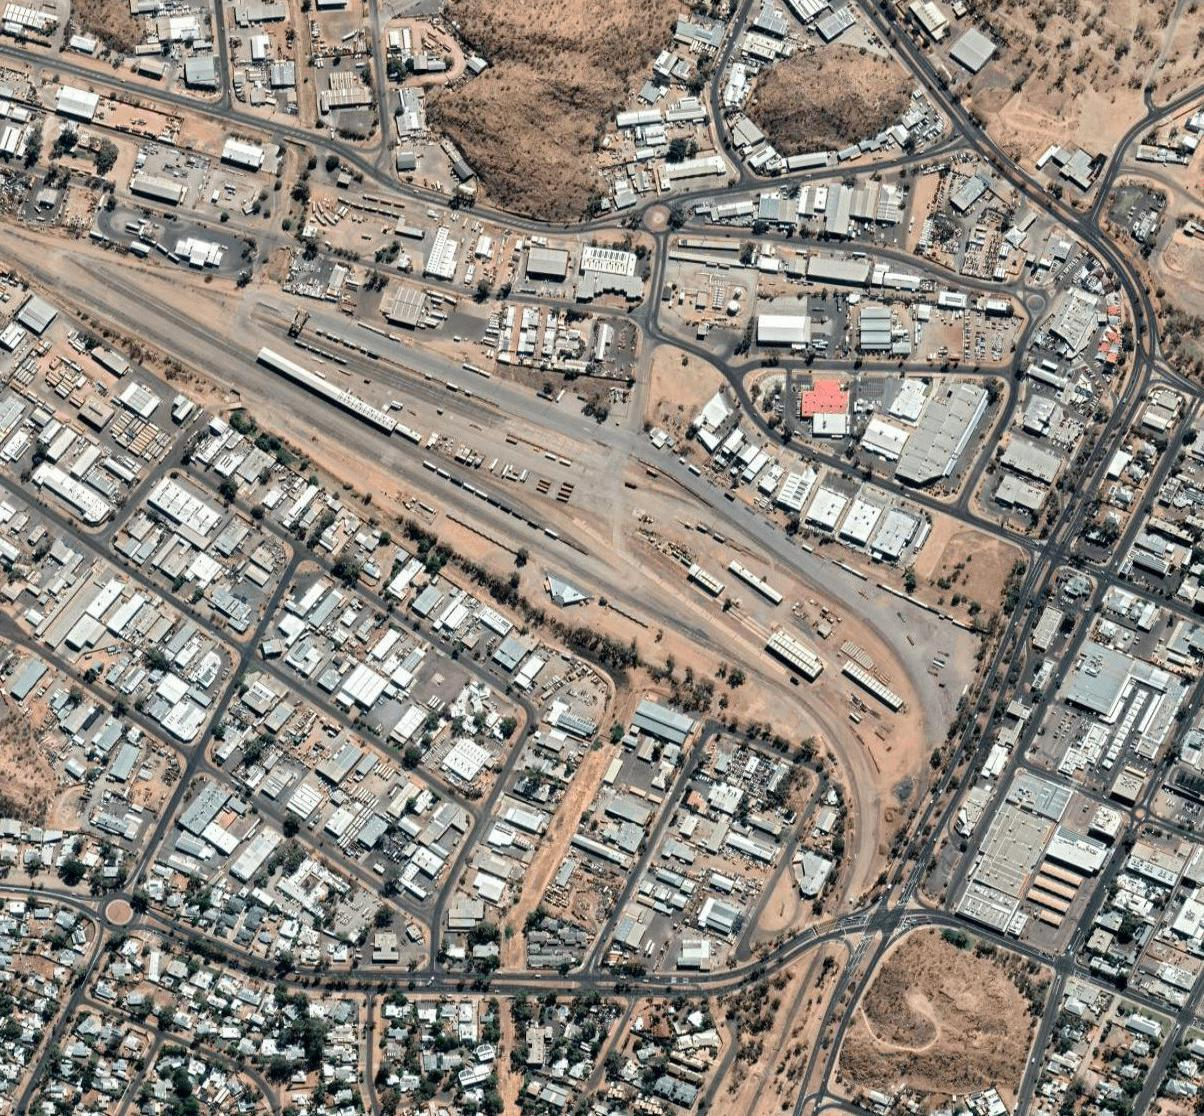train_station: (241, 302, 559, 460)
